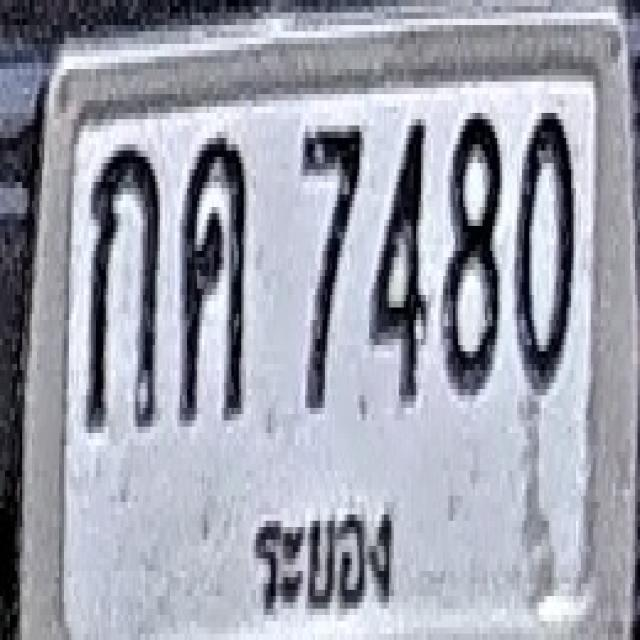-: (85, 141, 159, 430), (180, 132, 246, 420)
0: (514, 107, 574, 389)
4: (369, 113, 426, 402)
7: (300, 122, 362, 411)
8: (442, 107, 501, 395)
RYG: (245, 489, 406, 640)
